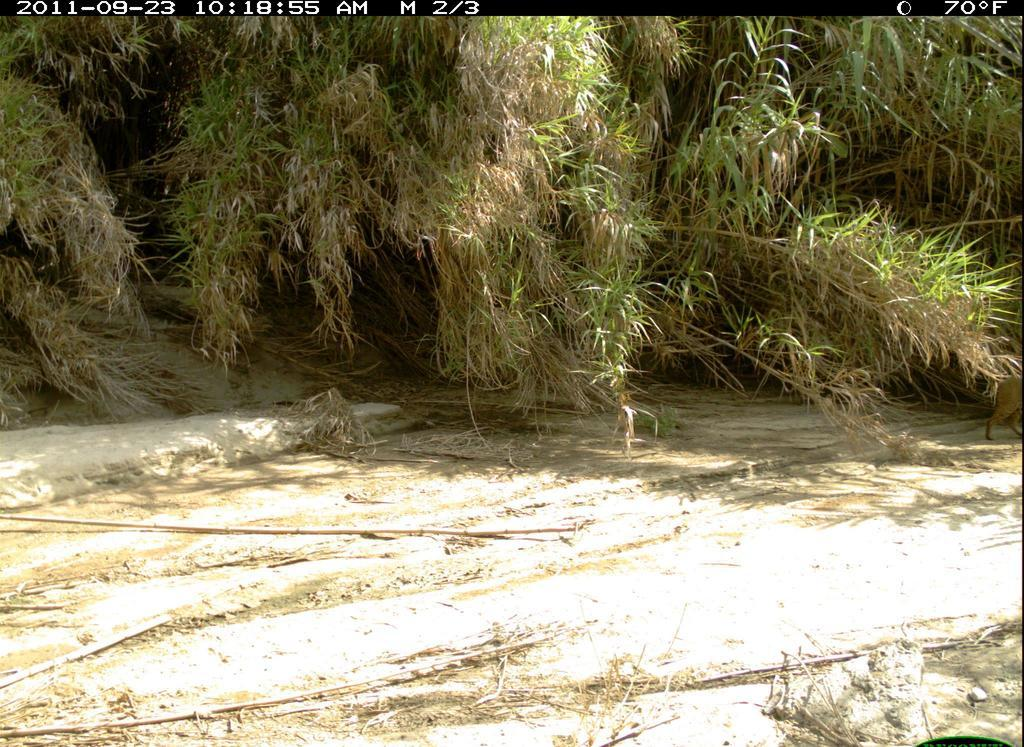bobcat: (982, 377, 1023, 447)
